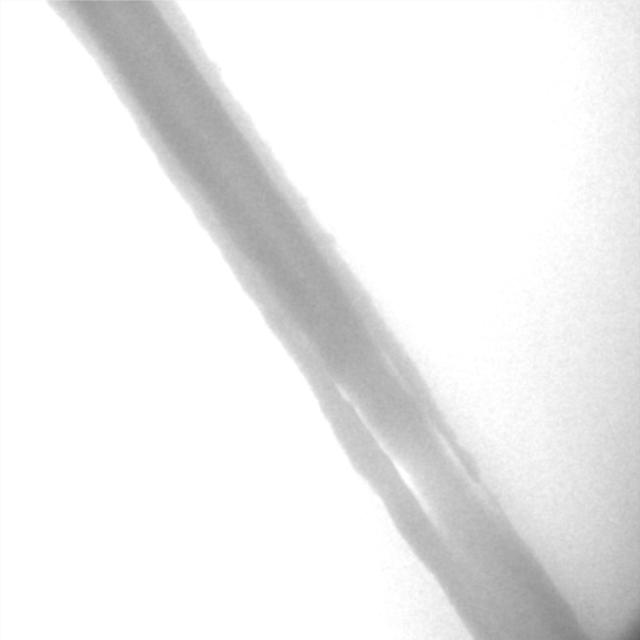unfused: (336, 359, 479, 526)
